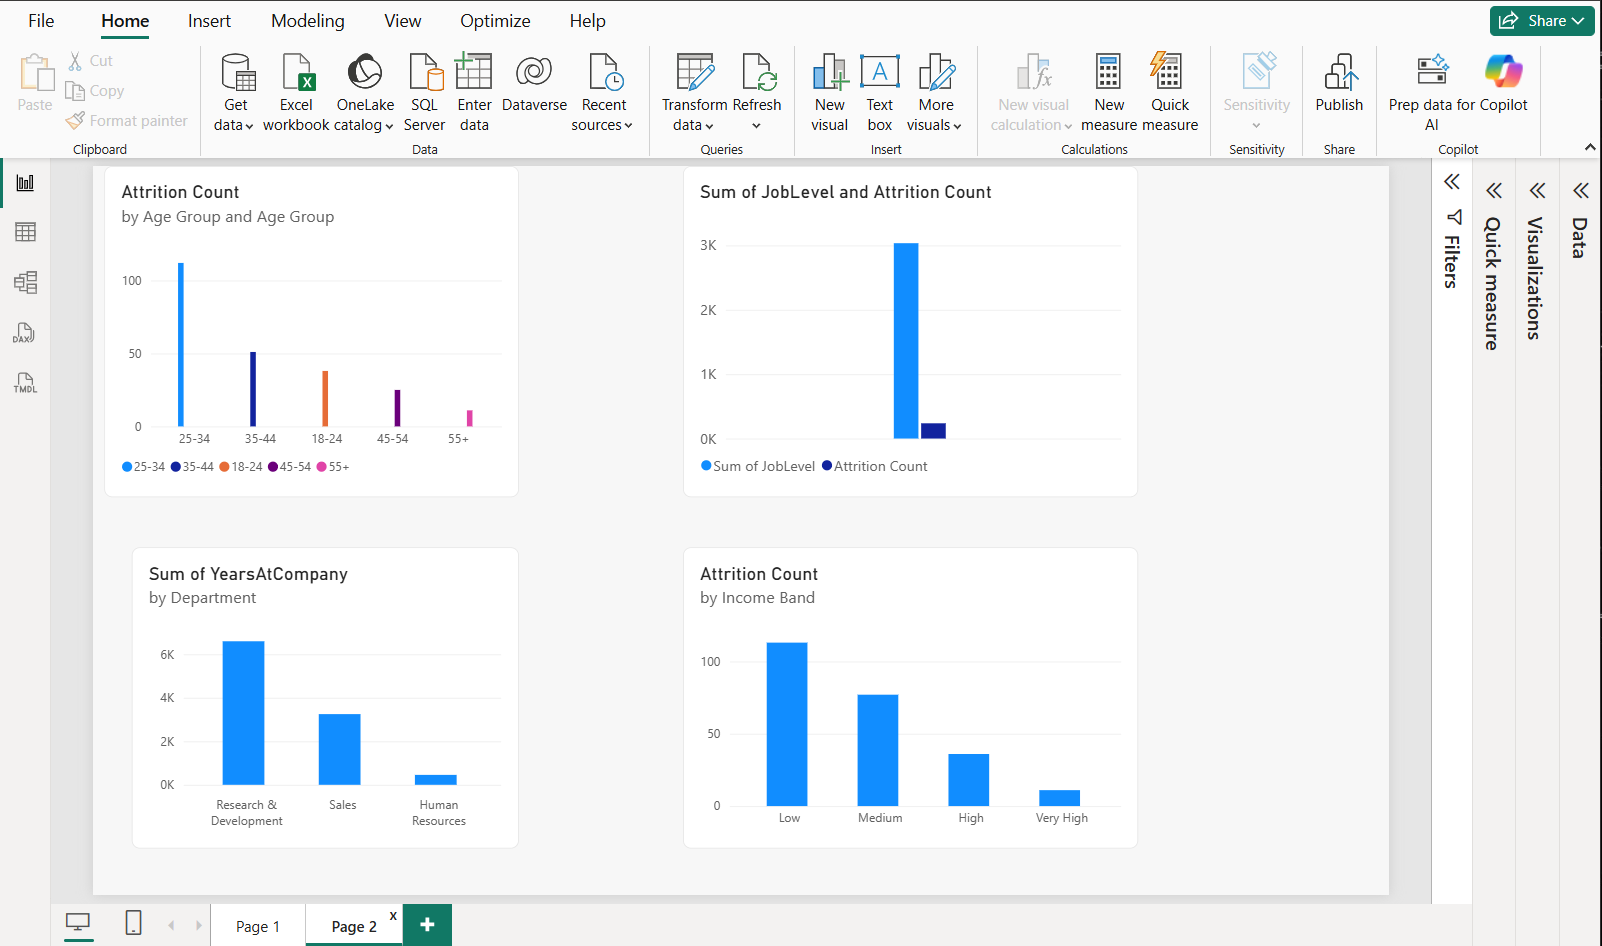

Layout of this report page (visuals, bound fields, positions):
{"tool":"powerbi","page":{"name":"Page 2","canvas":[1280,720],"ordinal":1},"visuals":[{"type":"clusteredColumnChart","fields":{"Category":["data.Age Group"],"Series":["data.Age Group"],"Y":["data.Attrition Count"]},"box":[10.6,0,409.8,327.4],"z":0},{"type":"clusteredColumnChart","fields":{"Category":["data.Income Band"],"Y":["data.Attrition Count"]},"box":[583,376,449.9,297.8],"z":1},{"type":"clusteredColumnChart","fields":{"Category":["data.Department"],"Y":["Sum(data.YearsAtCompany)"]},"box":[0,376,420.3,297.8],"z":2},{"type":"clusteredColumnChart","fields":{"Y":["Sum(data.JobLevel)","data.Attrition Count"]},"box":[583,0,449.9,327.4],"z":3}]}

Visuals, with their boxes on the page's 1280x720 design canvas (x1, y1, x2, y2). These are canvas units, not pixel positions in the 1602x946 screenshot, which may show the page scaled, cropped or inside an application window:
clusteredColumnChart - data.Age Group x data.Age Group: (x1=11, y1=0, x2=420, y2=327)
clusteredColumnChart - data.Income Band x data.Attrition Count: (x1=583, y1=376, x2=1033, y2=674)
clusteredColumnChart - data.Department x Sum(data.YearsAtCompany): (x1=0, y1=376, x2=420, y2=674)
clusteredColumnChart - Sum(data.JobLevel) x data.Attrition Count: (x1=583, y1=0, x2=1033, y2=327)
